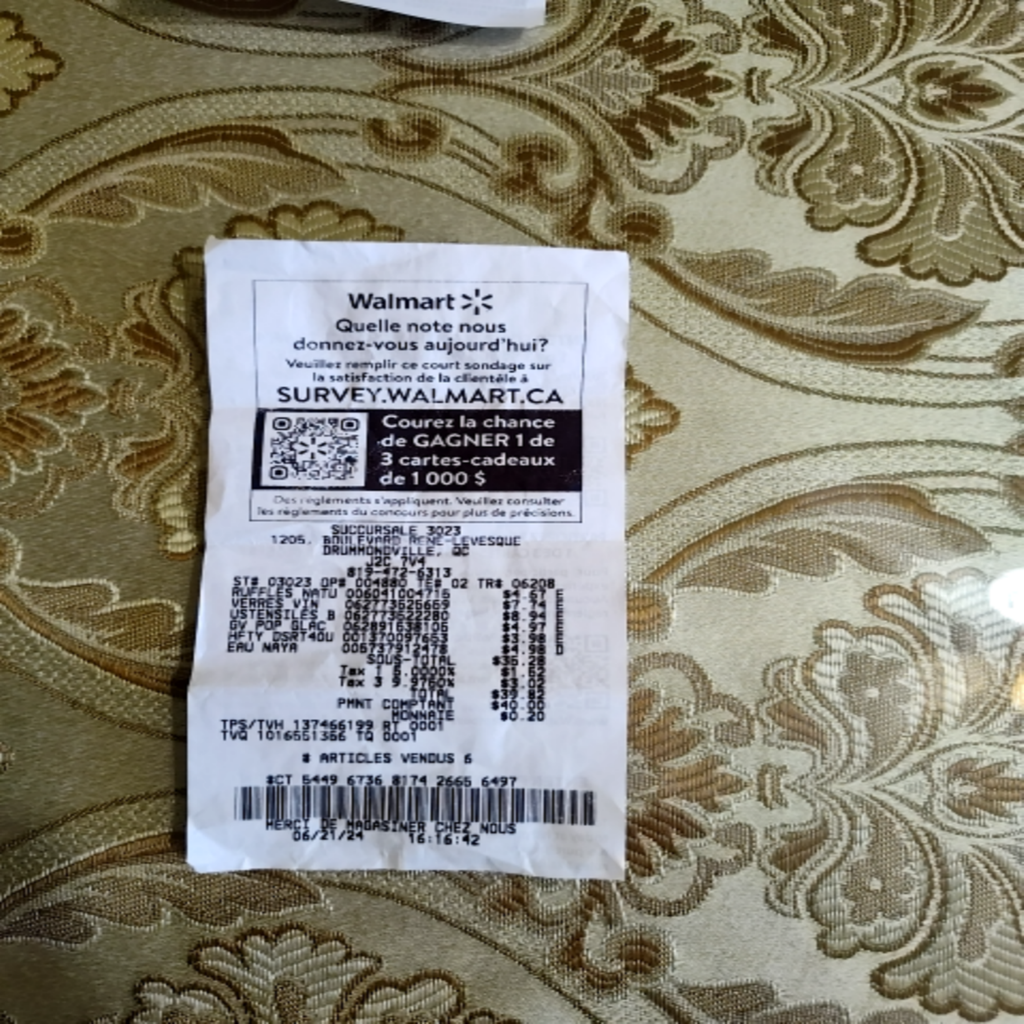recipt: (183, 237, 630, 879)
